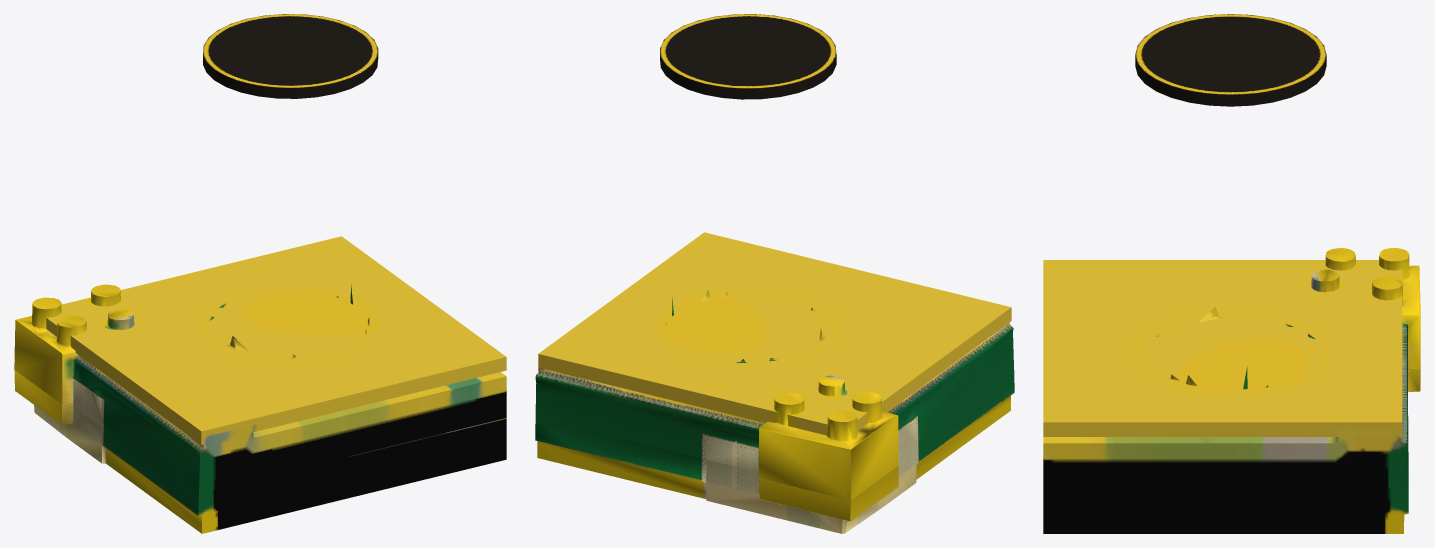
The model's file is 11-roof-back-left.fbx.
3 renders of one model, left to right at view 1: azimuth 30°, elevation 25°; view 2: azimuth 150°, elevation 25°; view 3: azimuth 270°, elevation 25°, orthographic. The views are drawn at different scales.
Parts seen in each view (by area): view 1: roof-back-left; view 2: roof-back-left; view 3: roof-back-left.
Boxes of the visible parts, bbox=[...] form: roof-back-left: bbox=[14, 14, 506, 533]; roof-back-left: bbox=[535, 14, 1014, 533]; roof-back-left: bbox=[1043, 14, 1420, 533].
Size of the model in its own units: 4912 by 5552 by 4626.
1 material, 1 textured.
